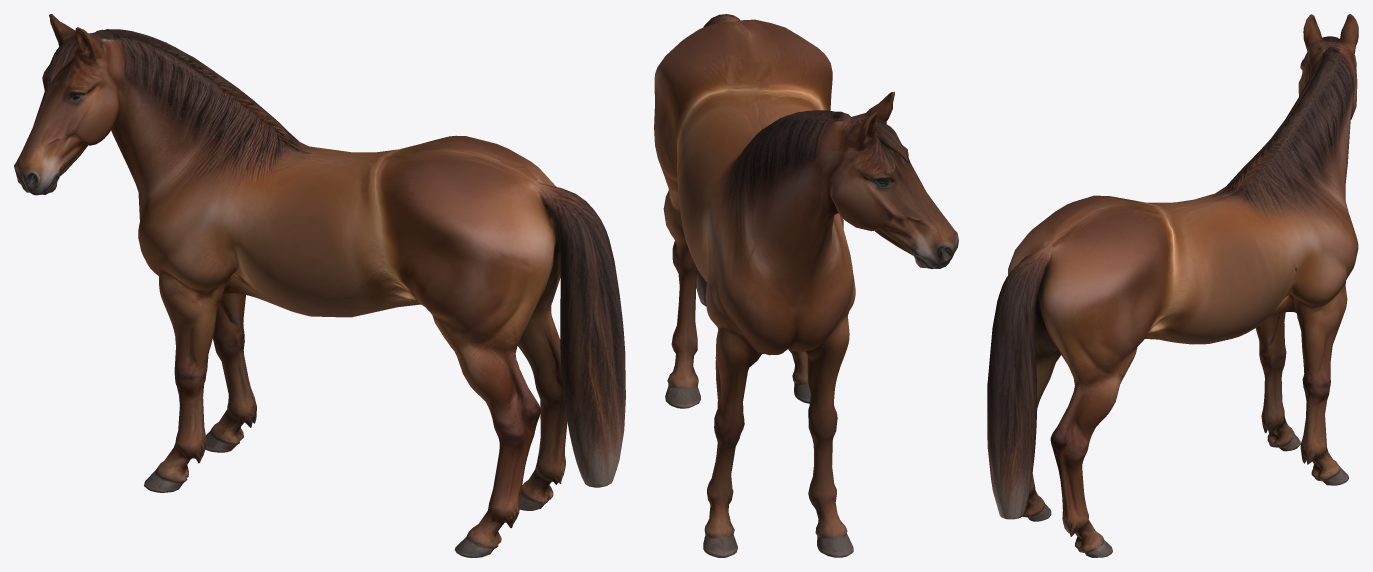
3 renders of one model, left to right at view 1: azimuth 30°, elevation 25°; view 2: azimuth 150°, elevation 25°; view 3: azimuth 270°, elevation 25°, orthographic. The views are drawn at different scales.
Visible parts, largest first — view 1: node_0; view 2: node_0; view 3: node_0.
Part boxes in pixels (bbox=[...]): node_0: bbox=[14, 14, 625, 557]; node_0: bbox=[654, 14, 958, 557]; node_0: bbox=[987, 14, 1358, 557].
Bounding box in the file's own units: 0.7887 × 0.8181 × 0.6859.
Materials: 1 (1 with a texture image).
